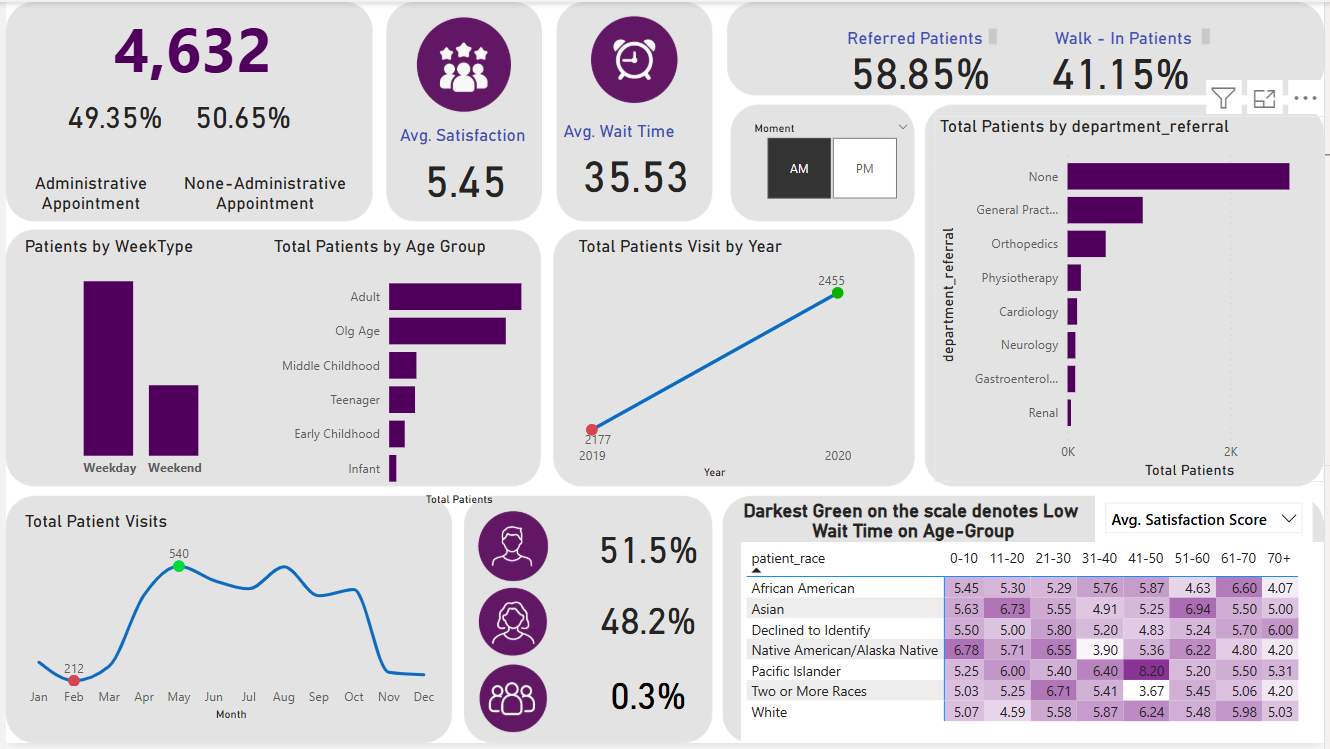

What the dashboard file says about the page in this screenshot:
{"tool":"powerbi","page":{"name":"Page 1","canvas":[1280,720],"ordinal":0},"visuals":[{"type":"card","fields":{"Values":["Calculations.Total Patients"]},"box":[76.5,0,209.3,84.3],"z":0},{"type":"card","fields":{"Values":["Calculations.% Admin Schedule"]},"box":[51.5,84.3,109.3,51.5],"z":1000},{"type":"card","fields":{"Values":["Calculations.% None - Admin Schedule"]},"box":[173.4,84.3,112.5,51.5],"z":2000},{"type":"pivotTable","fields":{"Values":["Calculations.Average Satisfaction Score"],"Rows":["Hospital Data.patient_race"],"Columns":["Hospital Data.Age Group"]},"box":[713.6,524.5,565.8,195.5],"z":3000},{"type":"clusteredBarChart","fields":{"Category":["Hospital Data.Age Group"],"Y":["Calculations.Total Patients"]},"box":[255,226.7,258.3,266.7],"z":4000},{"type":"lineChart","title":"Total Patient Visits","fields":{"Category":["Date.Month"],"Y":["Calculations.Total Patients","Calculations.Value Max Point (Month)"]},"box":[13.3,493.3,411.7,208.3],"z":5000},{"type":"slicer","fields":{"Values":["Hospital Data.Moment"]},"box":[713.3,110,175,86.7],"z":6000},{"type":"lineChart","title":"Total Patients Visit by Year","fields":{"Category":["Date.Year"],"Y":["Calculations.Value Max Point (Year)","Calculations.Total Patients"]},"box":[550,226.7,275,240],"z":7000},{"type":"clusteredBarChart","fields":{"Y":["Calculations.Total Patients"],"Category":["Hospital Data.department_referral"]},"box":[901.7,110,378.3,356.7],"z":8000},{"type":"card","fields":{"Values":["Calculations.% Referral Patients"]},"box":[1002.9,36.6,160.5,57.2],"z":9000},{"type":"card","fields":{"Values":["Calculations.% Un Referral Patients"]},"box":[807.4,38.1,160.5,54],"z":10000},{"type":"slicer","fields":{"Values":["Parameter.Parameter"]},"box":[1057,476.8,211.4,52.5],"z":11000},{"type":"card","fields":{"Values":["Calculations.Hitmap"]},"box":[688.3,466.7,383.3,75],"z":12000},{"type":"textbox","box":[19.1,160.5,127.2,49.3],"z":13000},{"type":"textbox","box":[160.5,160.5,182.8,49.3],"z":14000},{"type":"card","title":"Avg. Satisfaction","fields":{"Values":["Calculations.Average Satisfaction Score"]},"box":[376.7,120,136.7,81.7],"z":15000},{"type":"card","title":"Avg. Wait Time","fields":{"Values":["Calculations.Average Wait Time"]},"box":[536.7,115,151.7,81.7],"z":16000},{"type":"textbox","box":[807.4,20.7,160.5,27],"z":17000},{"type":"textbox","box":[1014,20.7,160.5,27],"z":18000},{"type":"clusteredColumnChart","title":"Patients by WeekType","fields":{"Y":["Calculations.Total Patients"],"Category":["Date.WeekType"]},"box":[13.3,226.7,238.3,243.3],"z":19000},{"type":"card","fields":{"Values":["Calculations.% Female Visit"]},"box":[560,566.7,128.3,61.7],"z":20000},{"type":"card","fields":{"Values":["Calculations.% Male Visit"]},"box":[558.3,496.7,130,63.3],"z":21000},{"type":"card","fields":{"Values":["Calculations.% Unknown Visit"]},"box":[560,640,128.3,61.7],"z":22000}]}

Visuals, with their boxes in screenshot pixels (x1, y1, x2, y2), scaled from the page's 1280x720 canvas onto the 1330x749 screenshot:
card - Calculations.Total Patients: [left=79, top=0, right=297, bottom=88]
card - Calculations.% Admin Schedule: [left=54, top=88, right=167, bottom=141]
card - Calculations.% None - Admin Schedule: [left=180, top=88, right=297, bottom=141]
pivotTable - Calculations.Average Satisfaction Score x Hospital Data.patient_race: [left=741, top=546, right=1329, bottom=748]
clusteredBarChart - Hospital Data.Age Group x Calculations.Total Patients: [left=265, top=236, right=533, bottom=513]
"Total Patient Visits" lineChart: [left=14, top=513, right=442, bottom=730]
slicer - Hospital Data.Moment: [left=741, top=114, right=923, bottom=205]
"Total Patients Visit by Year" lineChart: [left=571, top=236, right=857, bottom=485]
clusteredBarChart - Calculations.Total Patients x Hospital Data.department_referral: [left=937, top=114, right=1329, bottom=485]
card - Calculations.% Referral Patients: [left=1042, top=38, right=1209, bottom=98]
card - Calculations.% Un Referral Patients: [left=839, top=40, right=1006, bottom=96]
slicer - Parameter.Parameter: [left=1098, top=496, right=1318, bottom=551]
card - Calculations.Hitmap: [left=715, top=485, right=1113, bottom=564]
textbox: [left=20, top=167, right=152, bottom=218]
textbox: [left=167, top=167, right=357, bottom=218]
"Avg. Satisfaction" card: [left=391, top=125, right=533, bottom=210]
"Avg. Wait Time" card: [left=558, top=120, right=715, bottom=205]
textbox: [left=839, top=22, right=1006, bottom=50]
textbox: [left=1054, top=22, right=1220, bottom=50]
"Patients by WeekType" clusteredColumnChart: [left=14, top=236, right=261, bottom=489]
card - Calculations.% Female Visit: [left=582, top=590, right=715, bottom=654]
card - Calculations.% Male Visit: [left=580, top=517, right=715, bottom=583]
card - Calculations.% Unknown Visit: [left=582, top=666, right=715, bottom=730]
